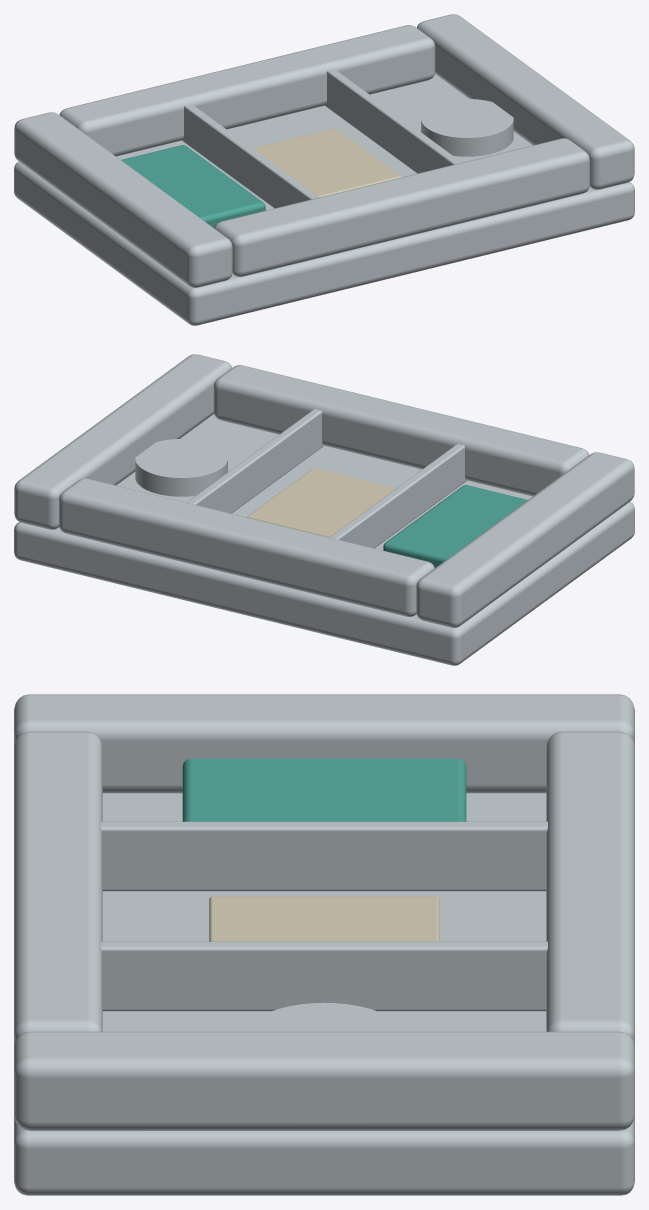
The model's file is recycling-centre-and-material-sorting-contamination-sa-68c0521d__31141.glb.
The picture shows the model from 3 angles, top to bottom: view 1: azimuth 30°, elevation 25°; view 2: azimuth 150°, elevation 25°; view 3: azimuth 270°, elevation 25°; orthographic projection. The views are drawn at different scales.
Parts seen in each view (by area): view 1: contamination-sample-tray; view 2: contamination-sample-tray; view 3: contamination-sample-tray.
Boxes of the visible parts, x1,y1,x2,y2 form: contamination-sample-tray: (14, 14, 634, 325); contamination-sample-tray: (14, 354, 634, 665); contamination-sample-tray: (14, 694, 634, 1195).
Size of the model in its own units: 0.5 by 0.085 by 0.35.
